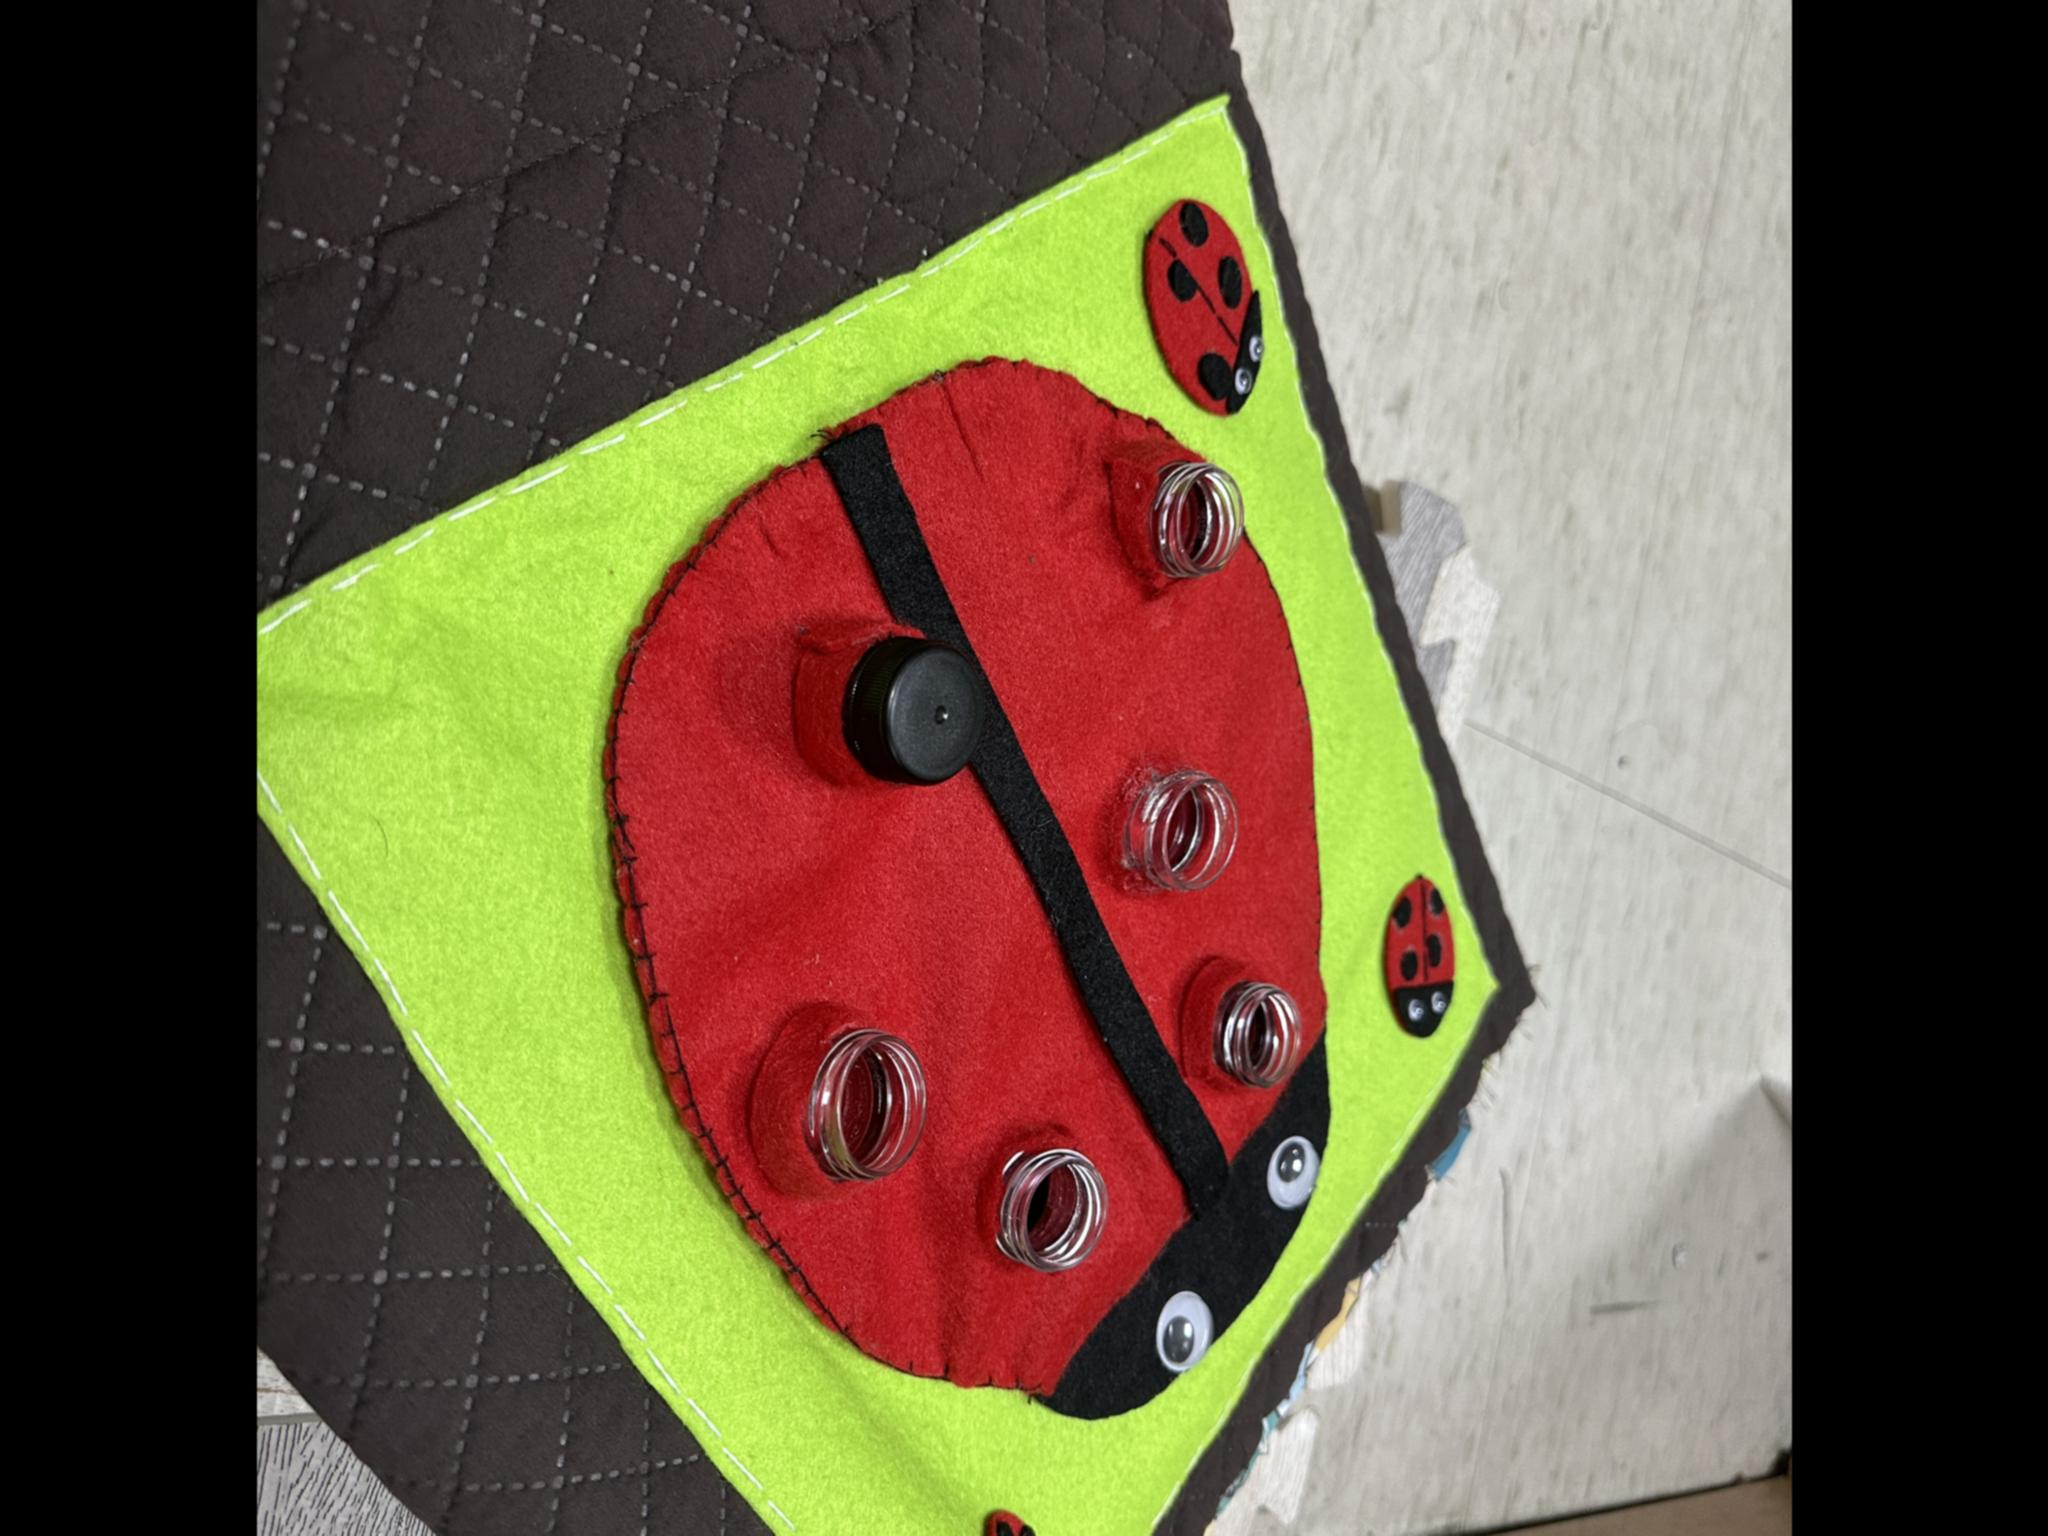cap_ok: (774, 581, 1006, 808)
